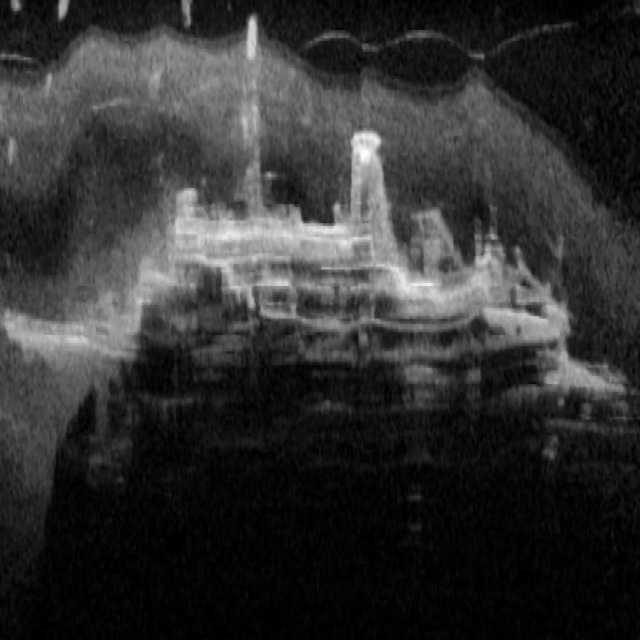Ship: (0, 14, 639, 586)
